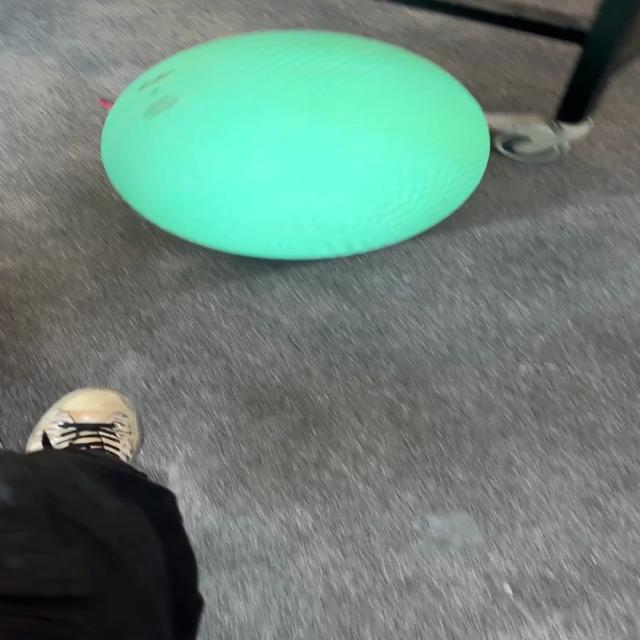Algae: (98, 28, 492, 261)
